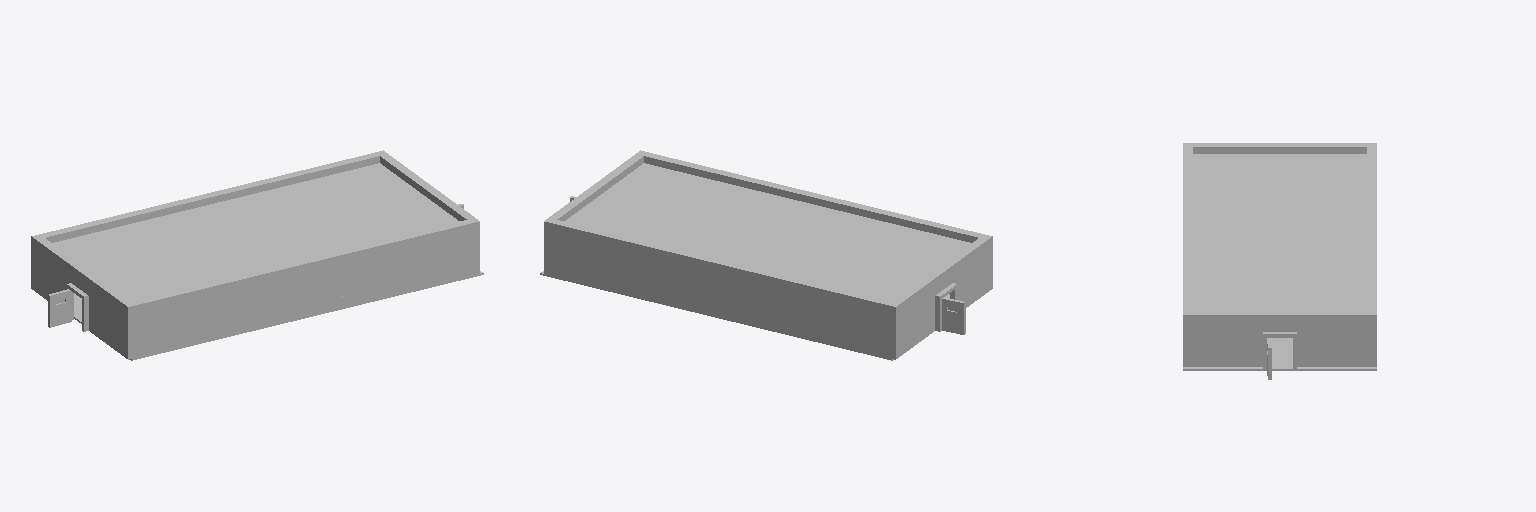
File: shopping mart.obj
The picture shows the model from 3 angles: view 1: azimuth 30°, elevation 25°; view 2: azimuth 150°, elevation 25°; view 3: azimuth 270°, elevation 25°; orthographic projection.
Parts seen in each view (by area): view 1: walls___roof, PivotDoor002, floor; view 2: walls___roof, PivotDoor002, floor; view 3: walls___roof, floor, PivotDoor001.
Boxes of the visible parts, x1=… form: walls___roof: x1=31, y1=150, x2=479, y2=359; PivotDoor002: x1=48, y1=283, x2=88, y2=331; floor: x1=74, y1=271, x2=483, y2=360; walls___roof: x1=544, y1=150, x2=992, y2=359; PivotDoor002: x1=935, y1=283, x2=965, y2=334; floor: x1=540, y1=271, x2=949, y2=360; walls___roof: x1=1183, y1=143, x2=1376, y2=366; floor: x1=1183, y1=338, x2=1376, y2=370; PivotDoor001: x1=1263, y1=332, x2=1296, y2=379.
Bounding box in the file's own units: 241 × 31 × 100.